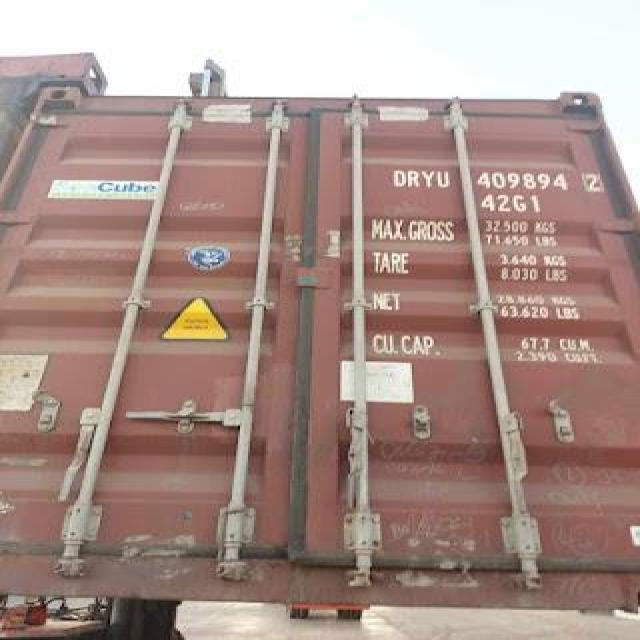ISO: (482, 194, 542, 215)
container_number: (390, 166, 598, 191)
